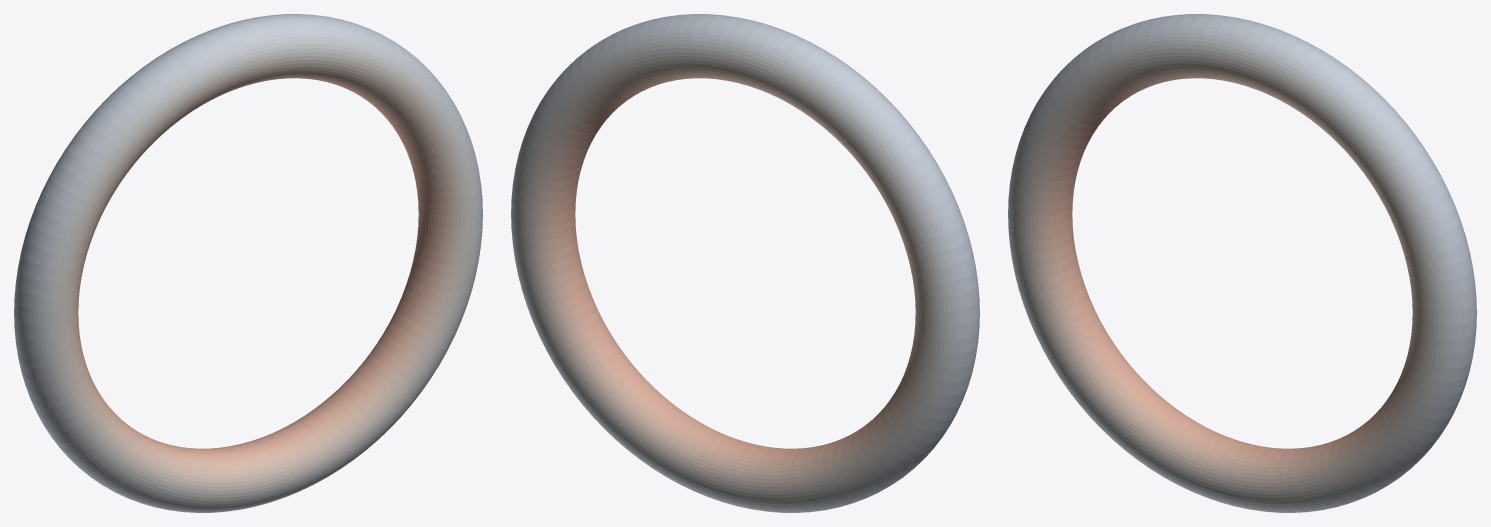
3 views of the same model, side by side, from view 1: azimuth 30°, elevation 25°; view 2: azimuth 150°, elevation 25°; view 3: azimuth 330°, elevation 25° (orthographic).
Visible parts, largest first — view 1: world; view 2: world; view 3: world.
Boxes of the visible parts, x1,y1,x2,y2 form: world: (14,14,482,512); world: (511,14,979,512); world: (1008,14,1476,512).
Size of the model in its own units: 34.13 by 34.13 by 4.13.
